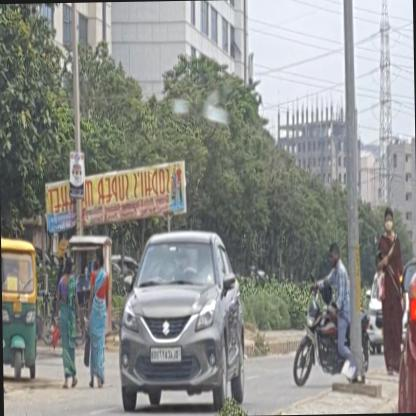car: (116, 226, 244, 416), (393, 143, 415, 412)
motorcycle: (292, 240, 370, 386)
